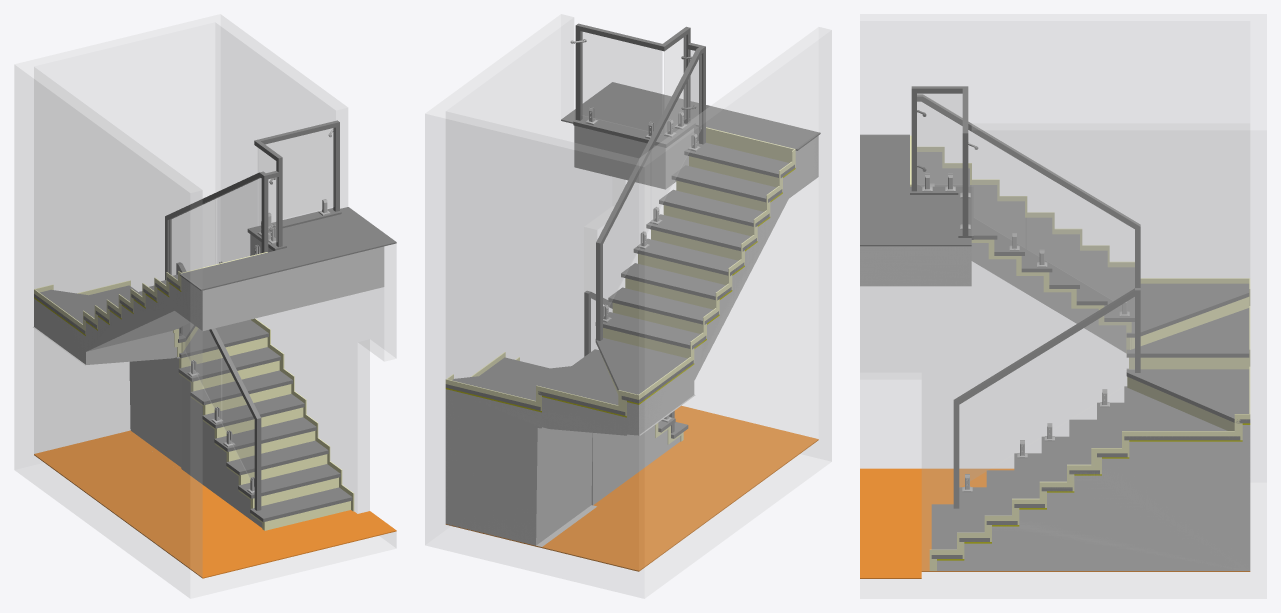
Rendered from Устройство лестницы на бетонном основании со стеклянным ограждением.obj.
3 renders of one model, left to right at view 1: azimuth 30°, elevation 25°; view 2: azimuth 150°, elevation 25°; view 3: azimuth 270°, elevation 25°, orthographic. The views are drawn at different scales.
Size of the model in its own units: 2.5 by 4.7 by 3.7.
